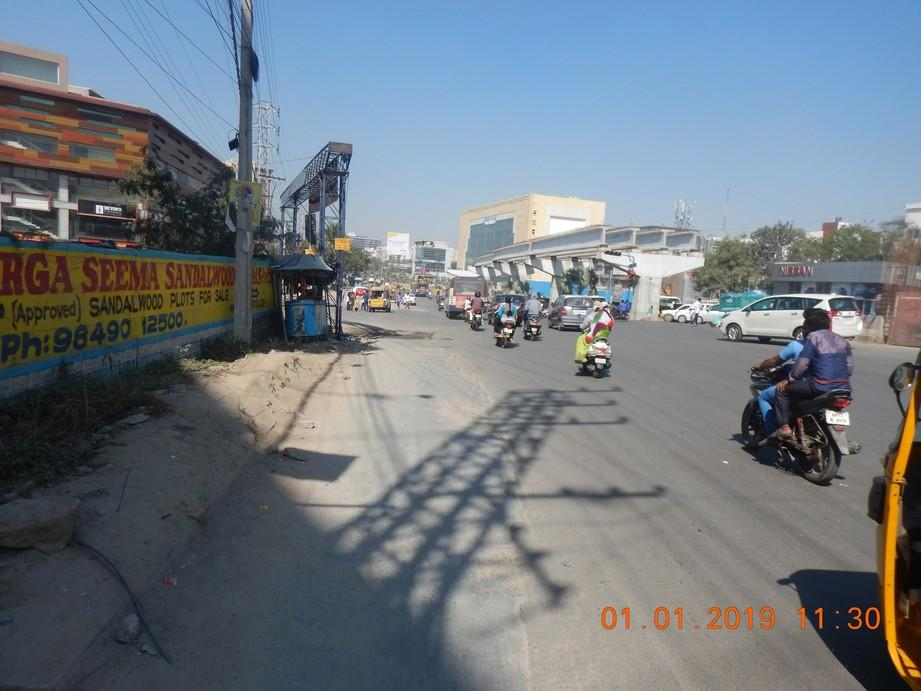with_helmet: (467, 290, 487, 332)
without_helmet: (736, 305, 867, 488), (573, 298, 617, 380), (489, 293, 520, 349), (519, 290, 547, 342), (609, 296, 632, 321)
